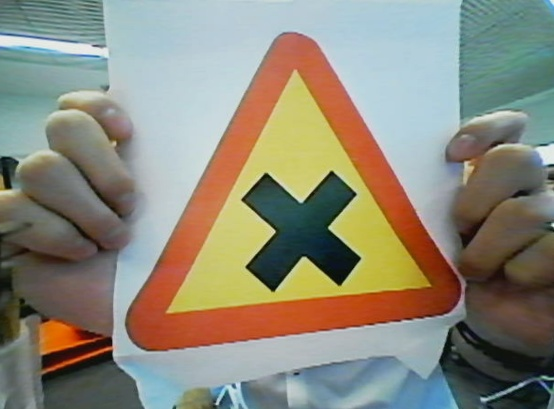junction: (119, 17, 467, 365)
